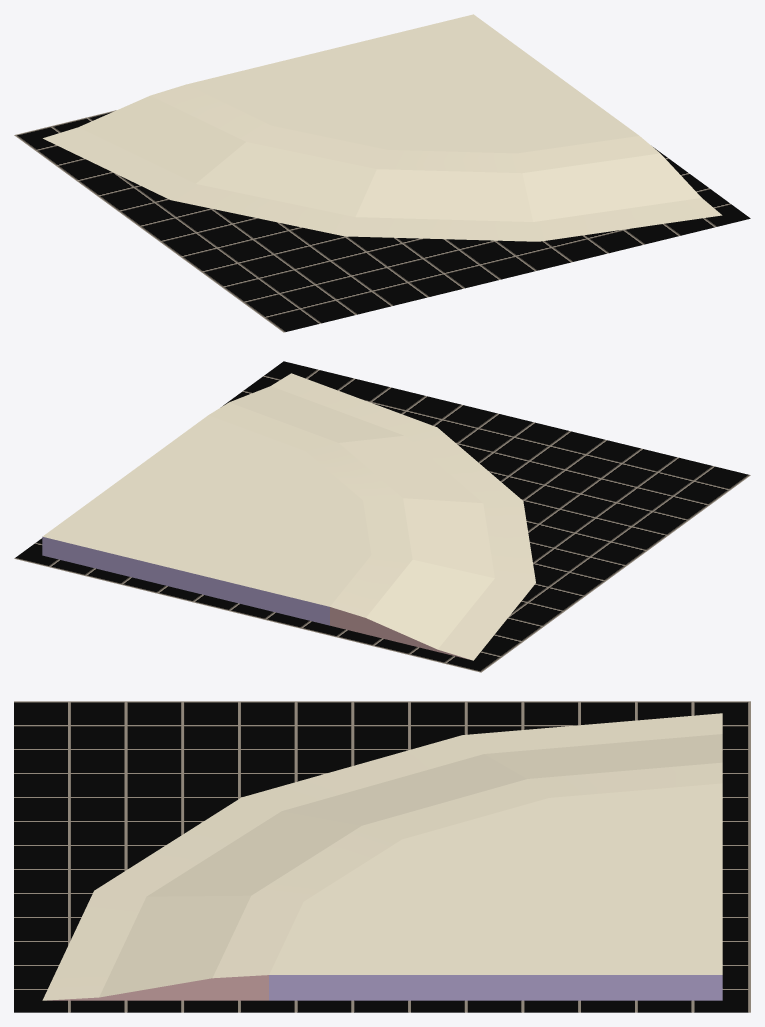
File: Terrain_Sand_Incline_Curve_Outer_12x12.glb
3 views of the same model, one above another, from view 1: azimuth 30°, elevation 25°; view 2: azimuth 150°, elevation 25°; view 3: azimuth 270°, elevation 25° (orthographic). The views are drawn at different scales.
Visible parts, largest first — view 1: Terrain_Sand_Incline_Curve_Outer_12x12, Floor; view 2: Terrain_Sand_Incline_Curve_Outer_12x12, Floor; view 3: Terrain_Sand_Incline_Curve_Outer_12x12, Floor.
Part boxes in pixels (<box>): Terrain_Sand_Incline_Curve_Outer_12x12: <box>43,14,722,241</box>; Floor: <box>14,110,750,332</box>; Terrain_Sand_Incline_Curve_Outer_12x12: <box>42,373,535,660</box>; Floor: <box>14,361,750,672</box>; Terrain_Sand_Incline_Curve_Outer_12x12: <box>42,713,722,1000</box>; Floor: <box>14,701,750,1012</box>.
Bounding box in the file's own units: 1300 × 50 × 1300.
Materials: 5 (1 with a texture image).
